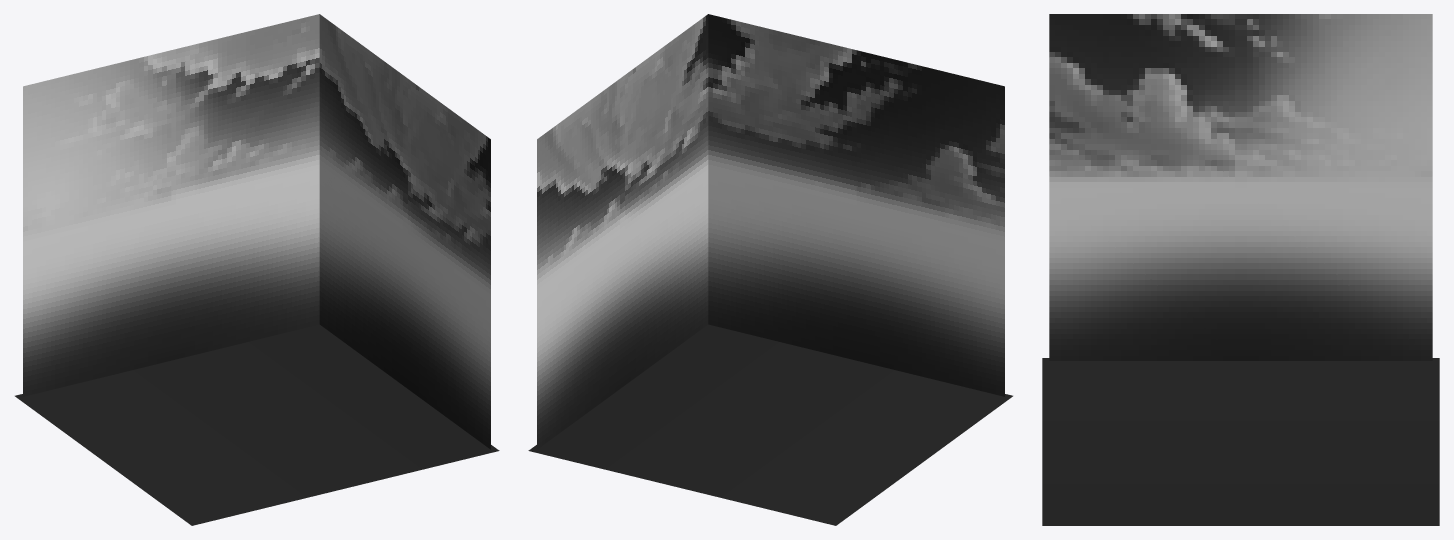
File: skybox.glb
3 views of the same model, side by side, from view 1: azimuth 30°, elevation 25°; view 2: azimuth 150°, elevation 25°; view 3: azimuth 270°, elevation 25° (orthographic). The views are drawn at different scales.
Parts seen in each view (by area): view 1: Cube.001; view 2: Cube.001; view 3: Cube.001.
Part boxes in pixels (x1,y1,x2,y2): Cube.001: (15, 14, 499, 525); Cube.001: (528, 14, 1012, 525); Cube.001: (1042, 14, 1439, 525).
Size of the model in its own units: 2.07 by 2 by 2.07.
9 materials, 9 textured.
